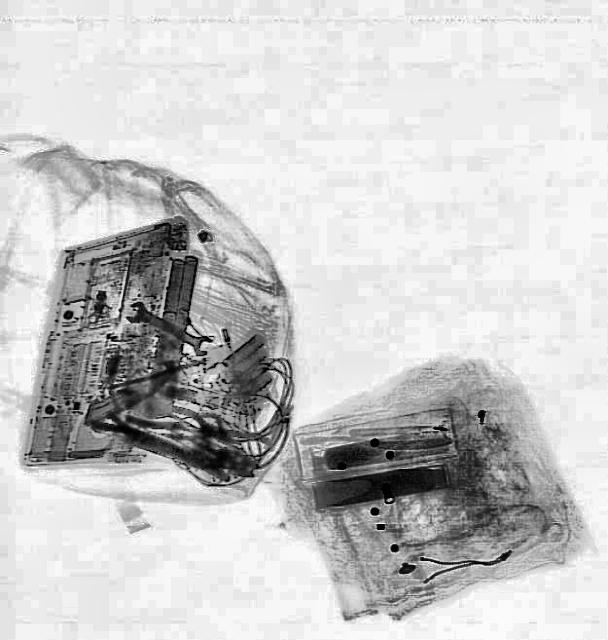Pliers: (124, 392, 234, 452)
Wrench: (122, 296, 216, 359)
